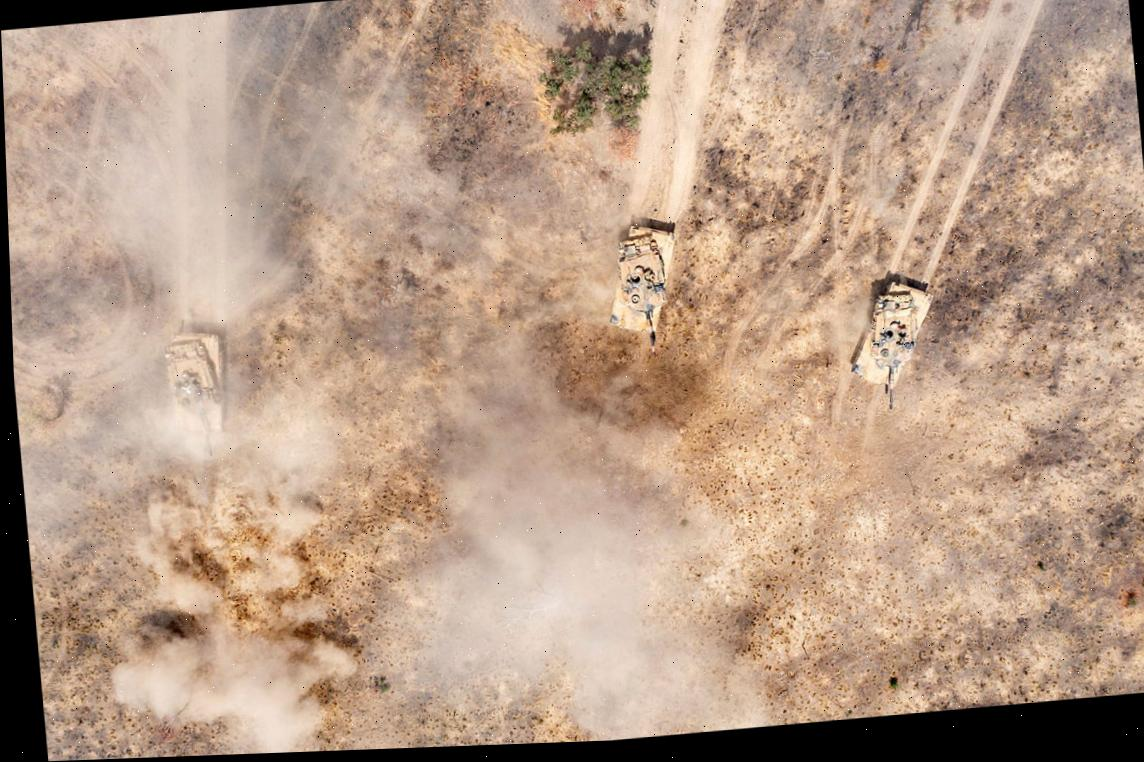tank: (842, 263, 946, 420), (592, 216, 695, 360), (157, 321, 238, 475)
